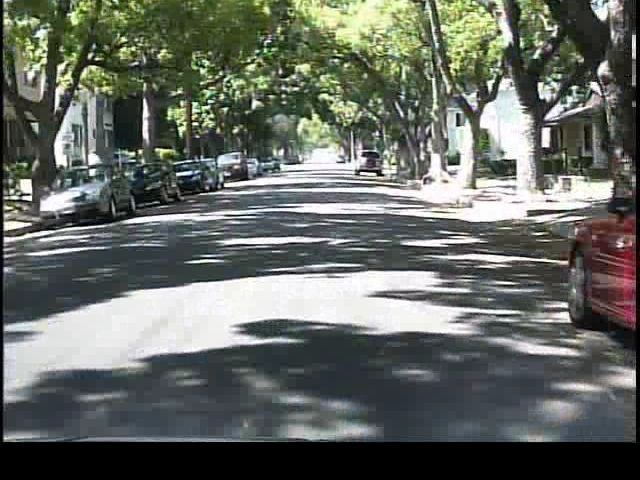person: (81, 144, 106, 196)
